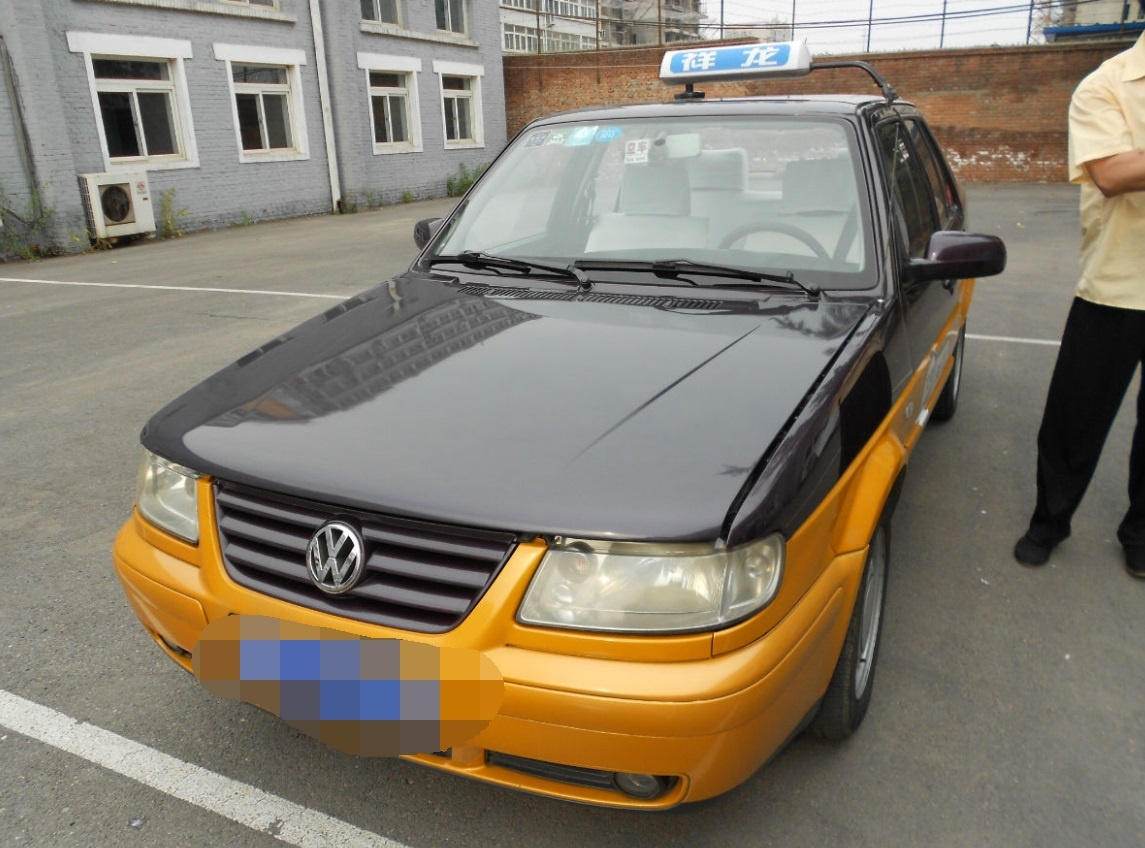taxi: (104, 52, 998, 802)
